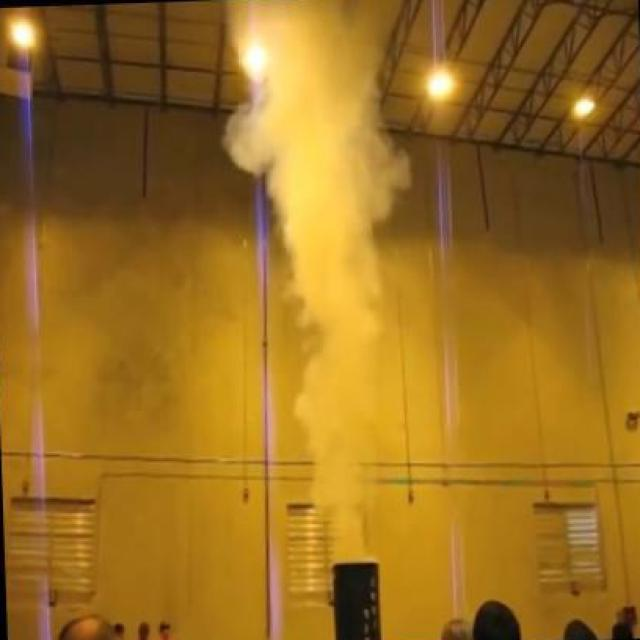fire: (224, 0, 411, 557)
